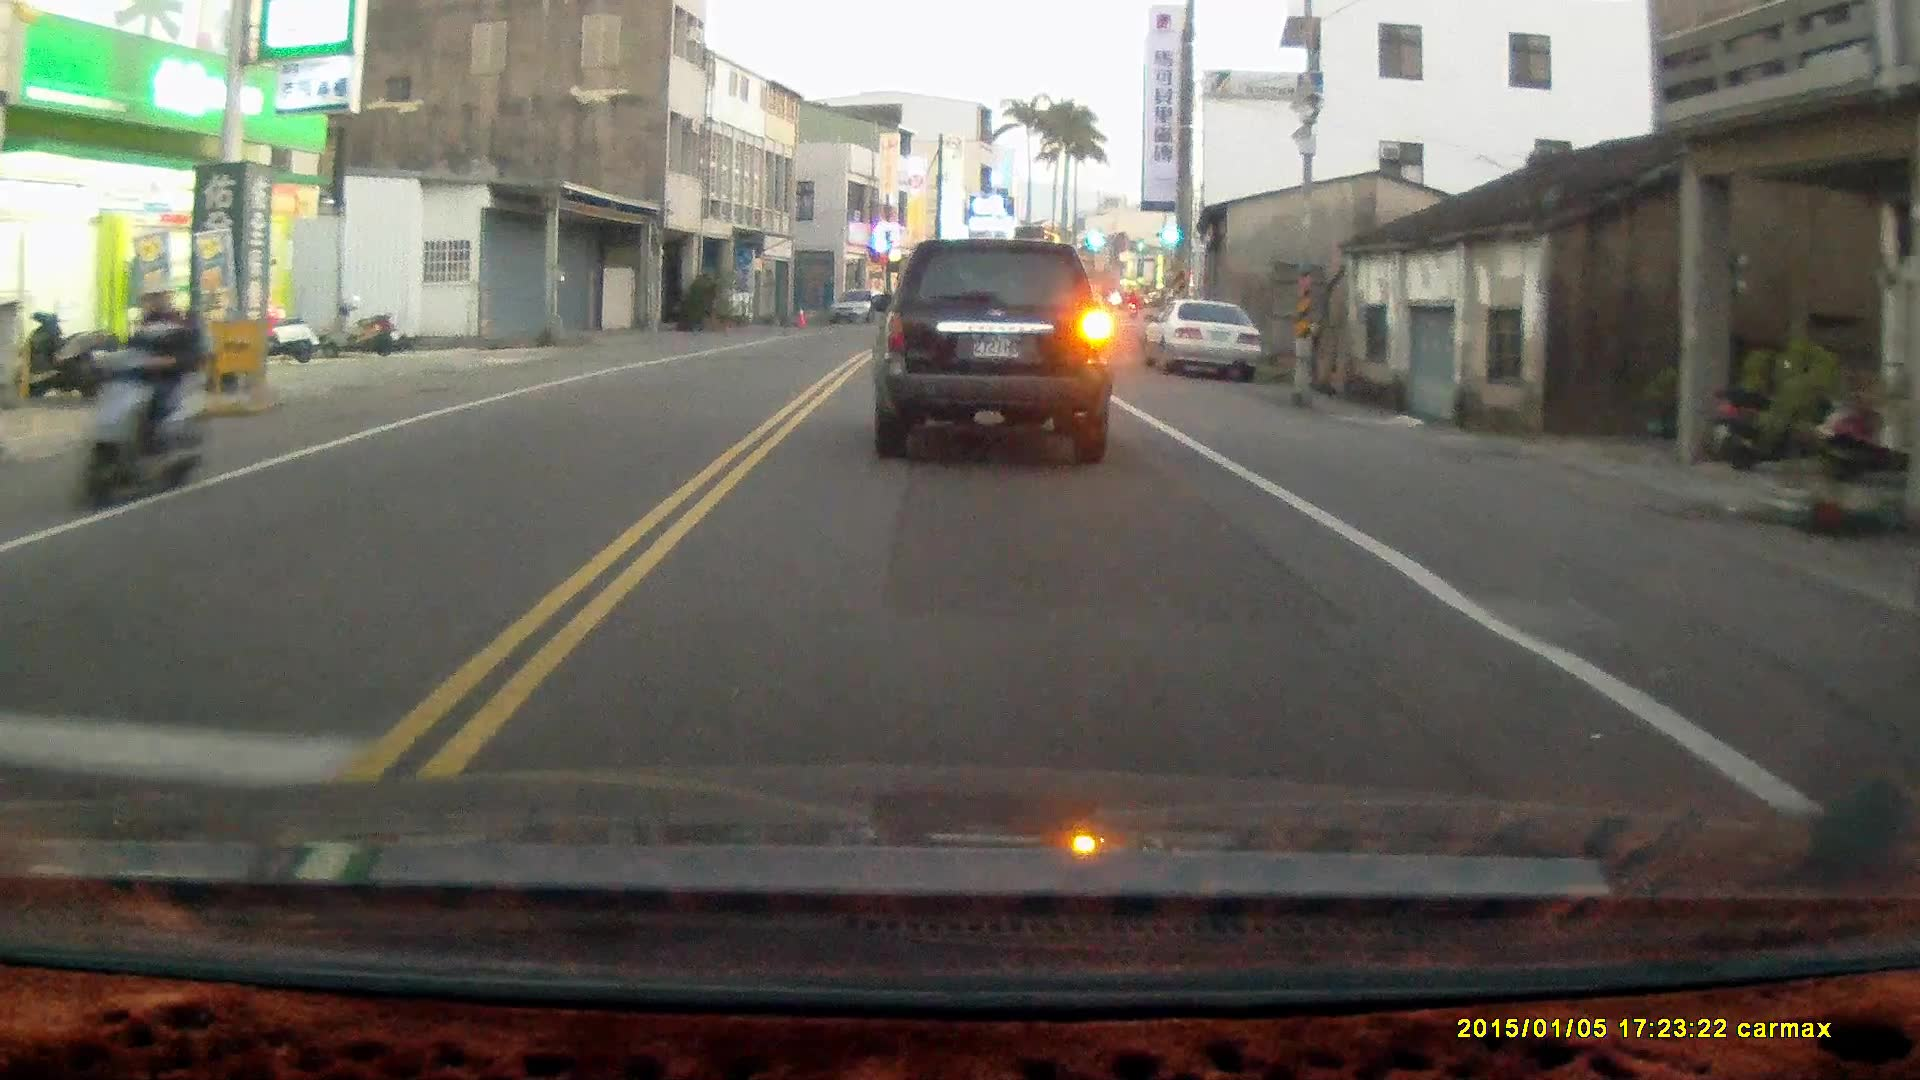rider: (70, 272, 212, 516)
vehicle: (873, 233, 1118, 462), (1145, 302, 1259, 382), (829, 289, 888, 328)
